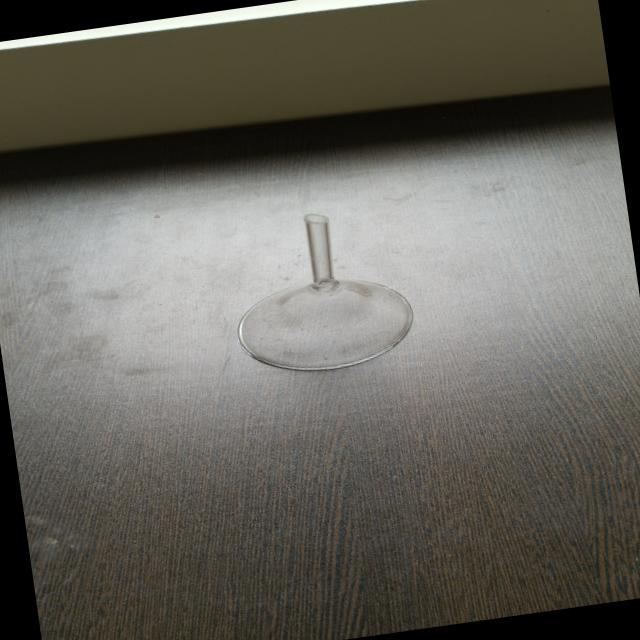funnel: (211, 194, 442, 384)
